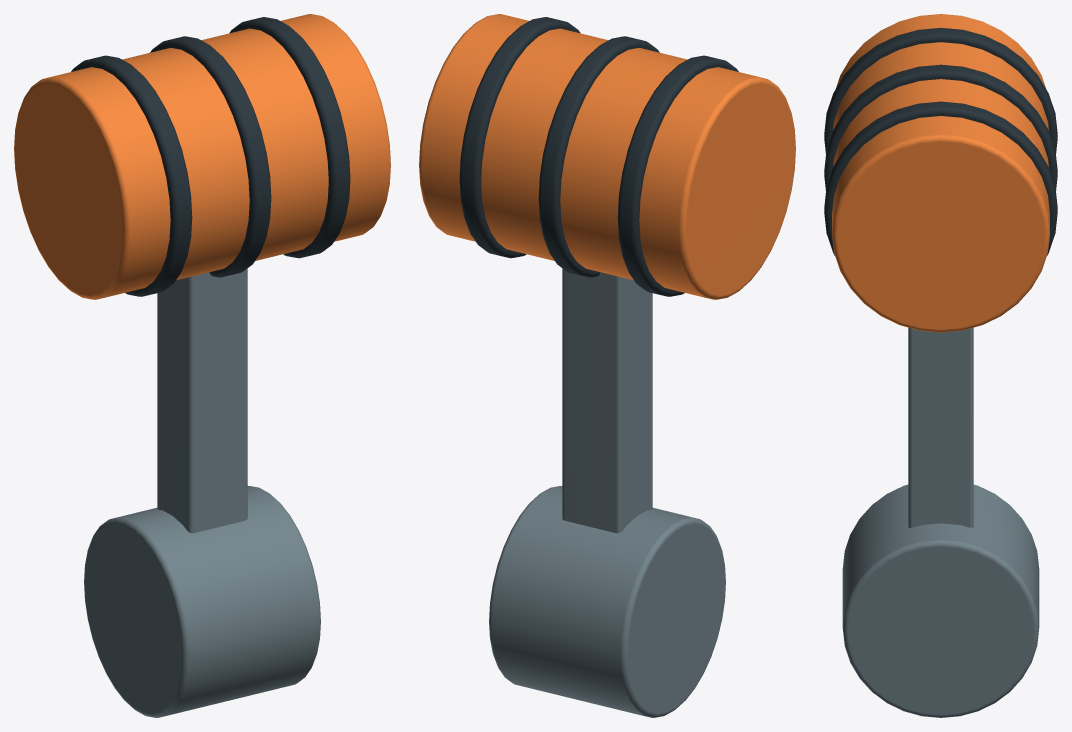
The model's file is SM_StellarDock_Lever.fbx.
3 renders of one model, left to right at view 1: azimuth 30°, elevation 25°; view 2: azimuth 150°, elevation 25°; view 3: azimuth 270°, elevation 25°, orthographic. The views are drawn at different scales.
Parts seen in each view (by area): view 1: SM_StellarDock_Lever; view 2: SM_StellarDock_Lever; view 3: SM_StellarDock_Lever.
Part boxes in pixels (left/top/right/bottom): SM_StellarDock_Lever: left=14, top=14, right=390, bottom=717; SM_StellarDock_Lever: left=419, top=14, right=795, bottom=717; SM_StellarDock_Lever: left=824, top=14, right=1057, bottom=717.
Bounding box in the file's own units: 27 × 21.4 × 62.7.
